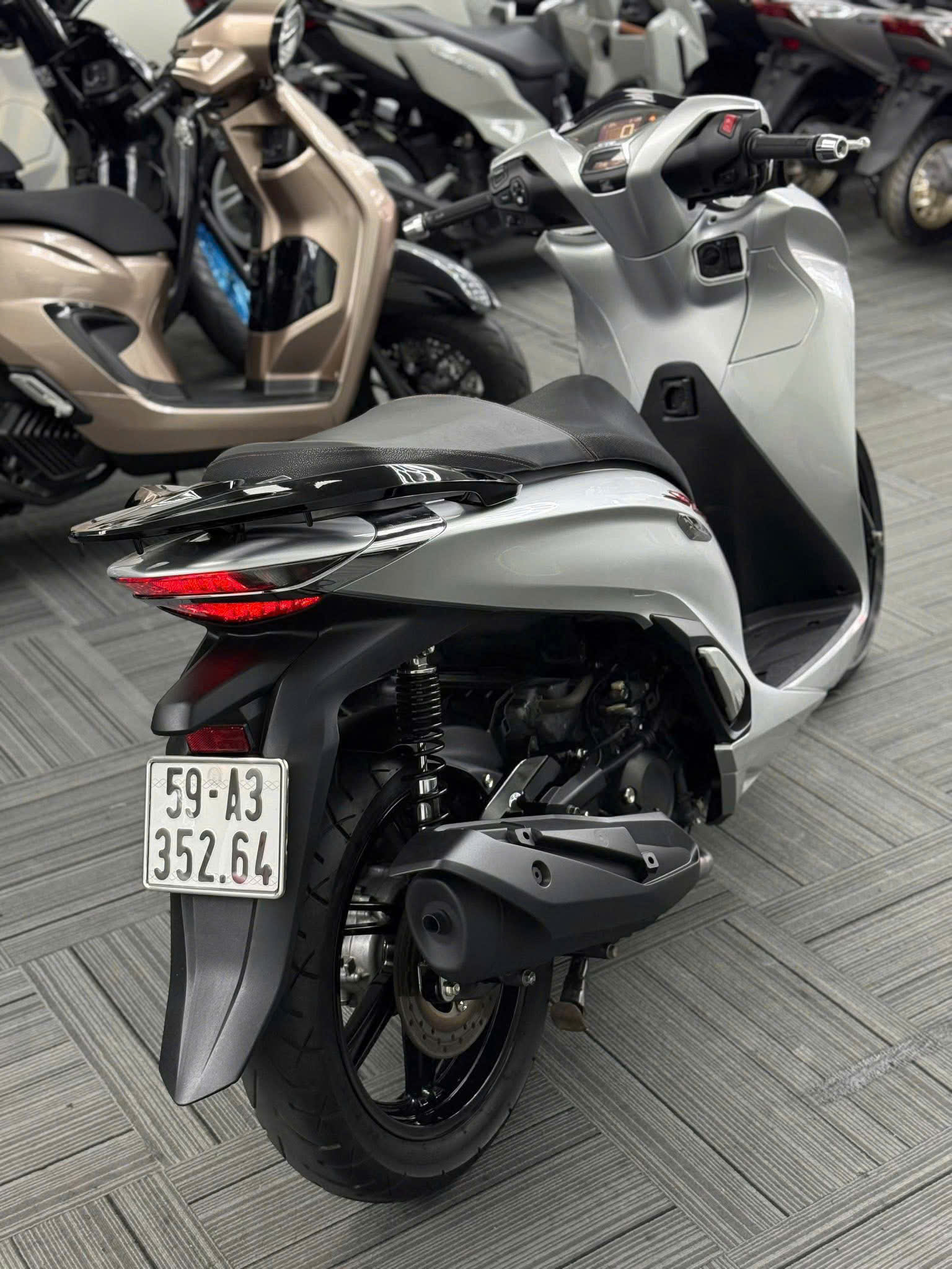Bien-so: (145, 758, 294, 900)
